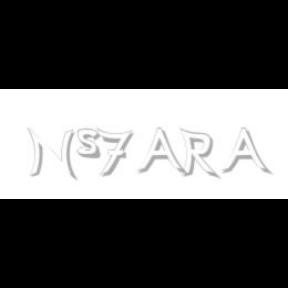7: (97, 128, 134, 178)
A: (137, 128, 185, 176), (221, 128, 269, 176)
N: (26, 128, 76, 180)
R: (179, 128, 217, 180)
s: (77, 128, 105, 160)
